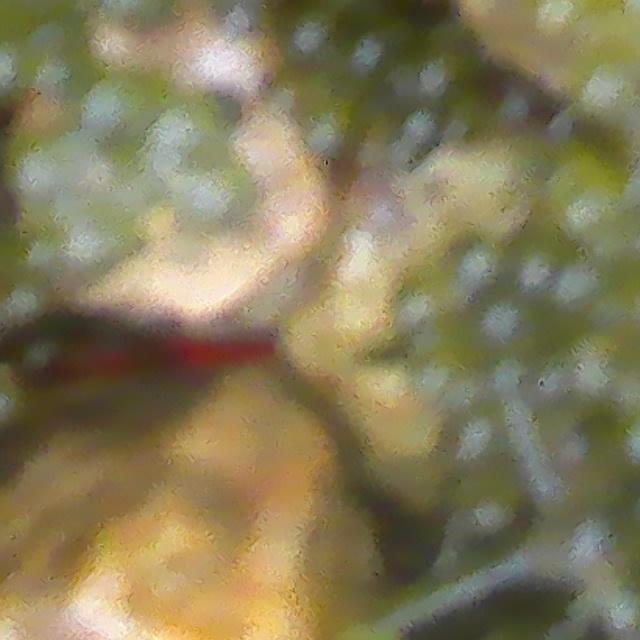SeaGrape: (539, 144, 636, 244), (537, 0, 614, 52)
